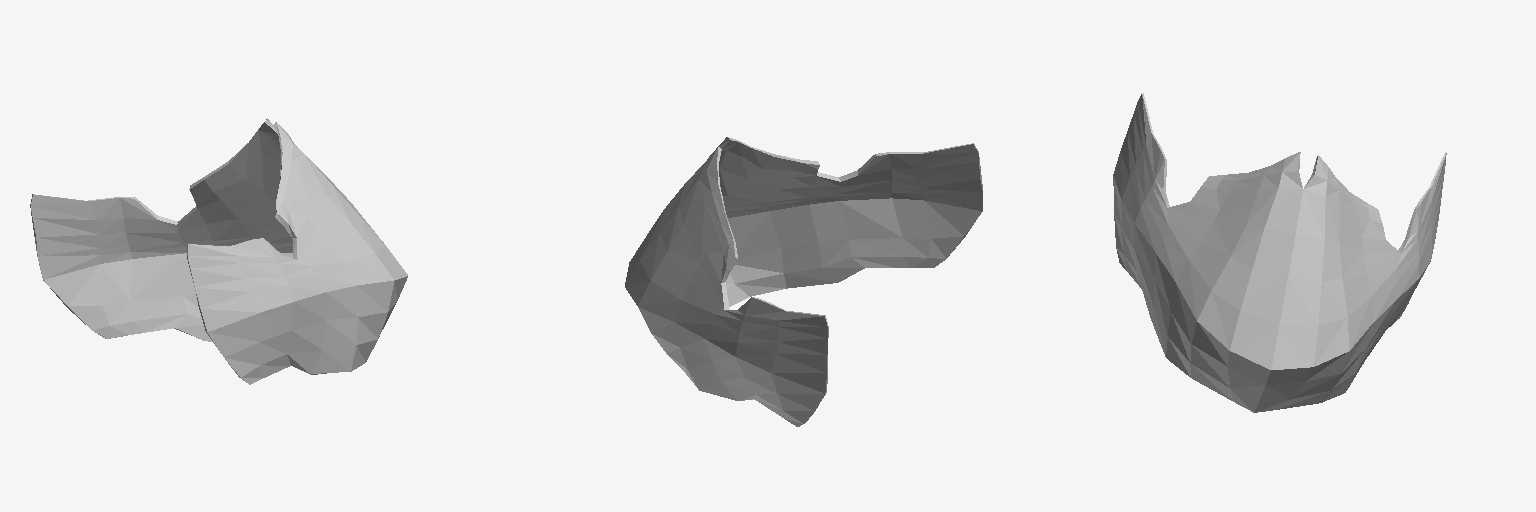
Rendered from shoulder_armour.obj.
3 views of the same model, side by side, from view 1: azimuth 30°, elevation 25°; view 2: azimuth 150°, elevation 25°; view 3: azimuth 270°, elevation 25° (orthographic).
Visible parts, largest first — view 1: polySurface464 polySurface462; view 2: polySurface464 polySurface462; view 3: polySurface464 polySurface462.
Part boxes in pixels (x1,y1,x2,y2): polySurface464 polySurface462: (30,118,407,384); polySurface464 polySurface462: (625,137,982,426); polySurface464 polySurface462: (1113,93,1446,412).
Size of the model in its own units: 19 by 15.16 by 19.17.